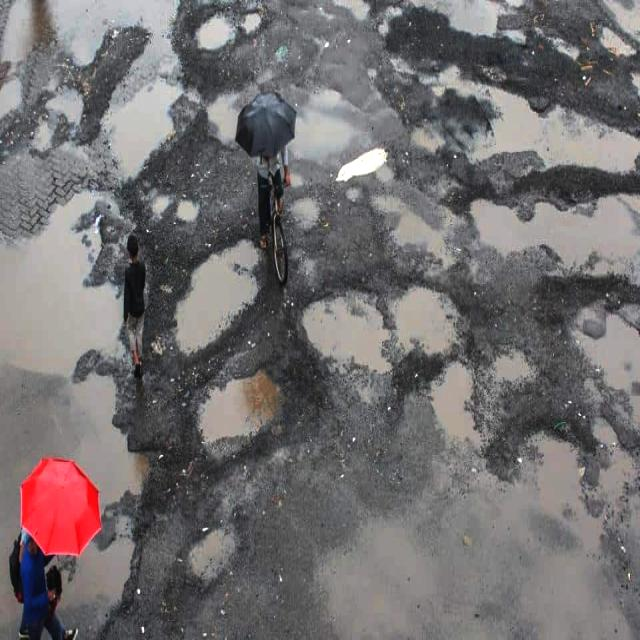Pothole: (323, 20, 640, 635)
